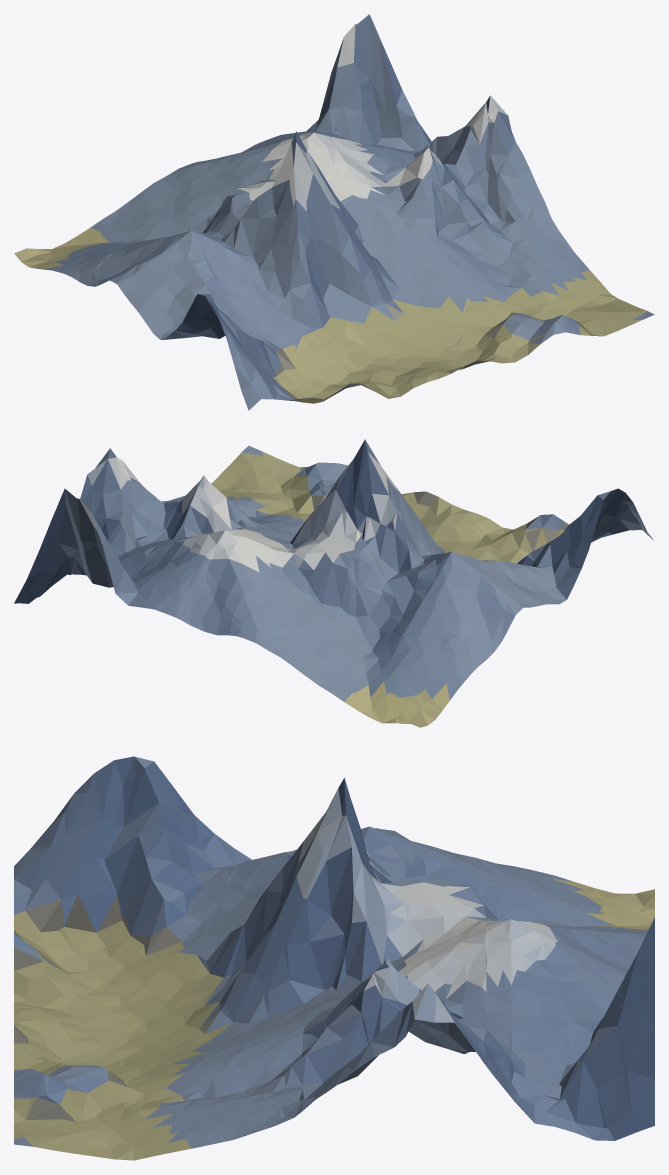
Rendered from Ground_1_-4.glb.
The picture shows the model from 3 angles, top to bottom: view 1: azimuth 30°, elevation 25°; view 2: azimuth 150°, elevation 25°; view 3: azimuth 270°, elevation 25°; orthographic projection. The views are drawn at different scales.
Visible parts, largest first — view 1: Ground_1_-4; view 2: Ground_1_-4; view 3: Ground_1_-4.
Part boxes in pixels (<box>): Ground_1_-4: <box>14,14,654,410</box>; Ground_1_-4: <box>14,439,653,727</box>; Ground_1_-4: <box>14,756,654,1160</box>.
Size of the model in its own units: 768 by 318 by 768.
